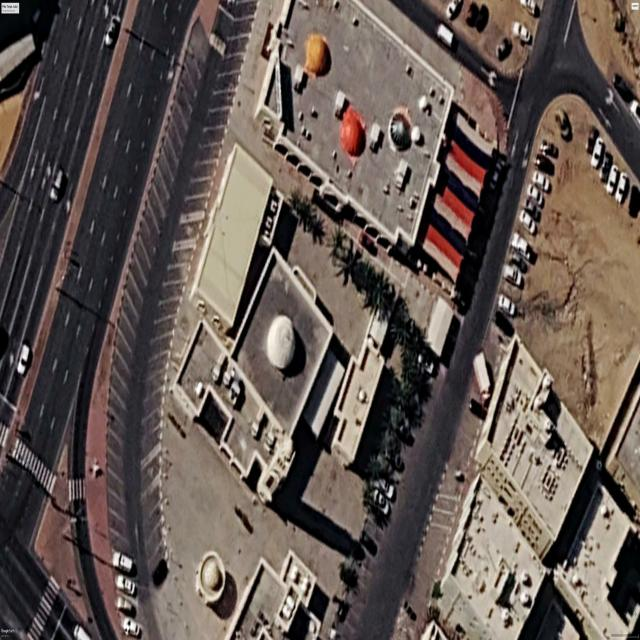mosque: (172, 250, 334, 503)
